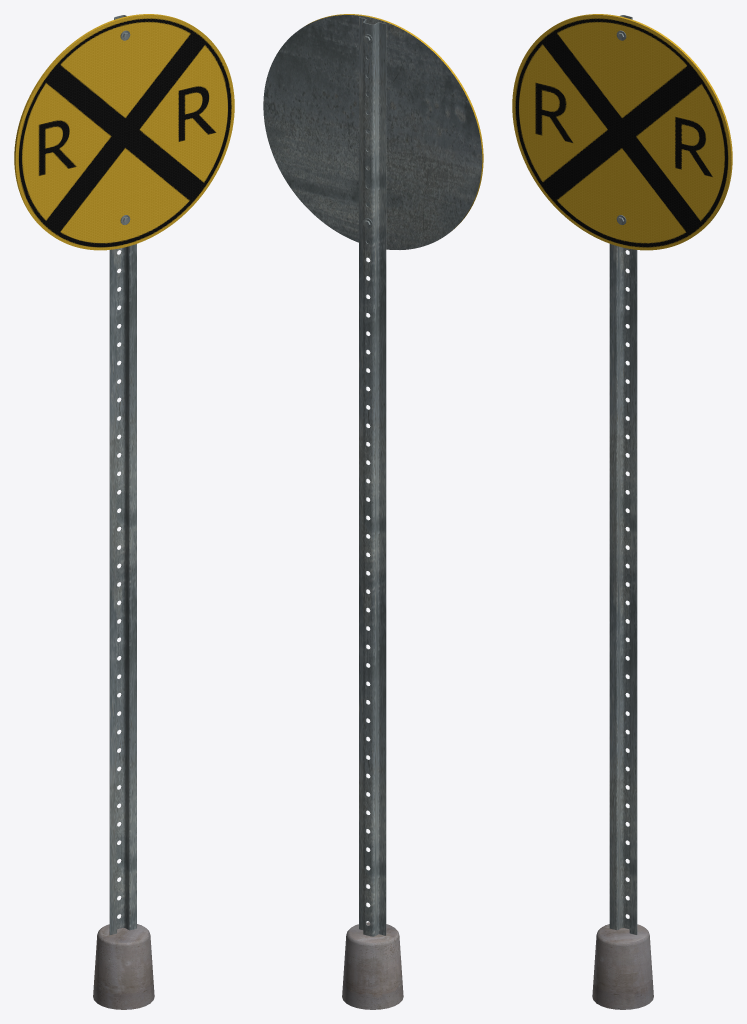
File: railroadcrossing_nsoc.obj
3 views of the same model, side by side, from view 1: azimuth 30°, elevation 25°; view 2: azimuth 150°, elevation 25°; view 3: azimuth 330°, elevation 25° (orthographic).
Parts seen in each view (by area): view 1: sign_rr_xing; view 2: sign_rr_xing; view 3: sign_rr_xing.
Part boxes in pixels (left/top/right/bottom): sign_rr_xing: left=14, top=14, right=234, bottom=1009; sign_rr_xing: left=263, top=14, right=483, bottom=1009; sign_rr_xing: left=512, top=14, right=732, bottom=1009.
Bounding box in the file's own units: 24 × 103 × 5.84.
3 materials, 3 textured.
